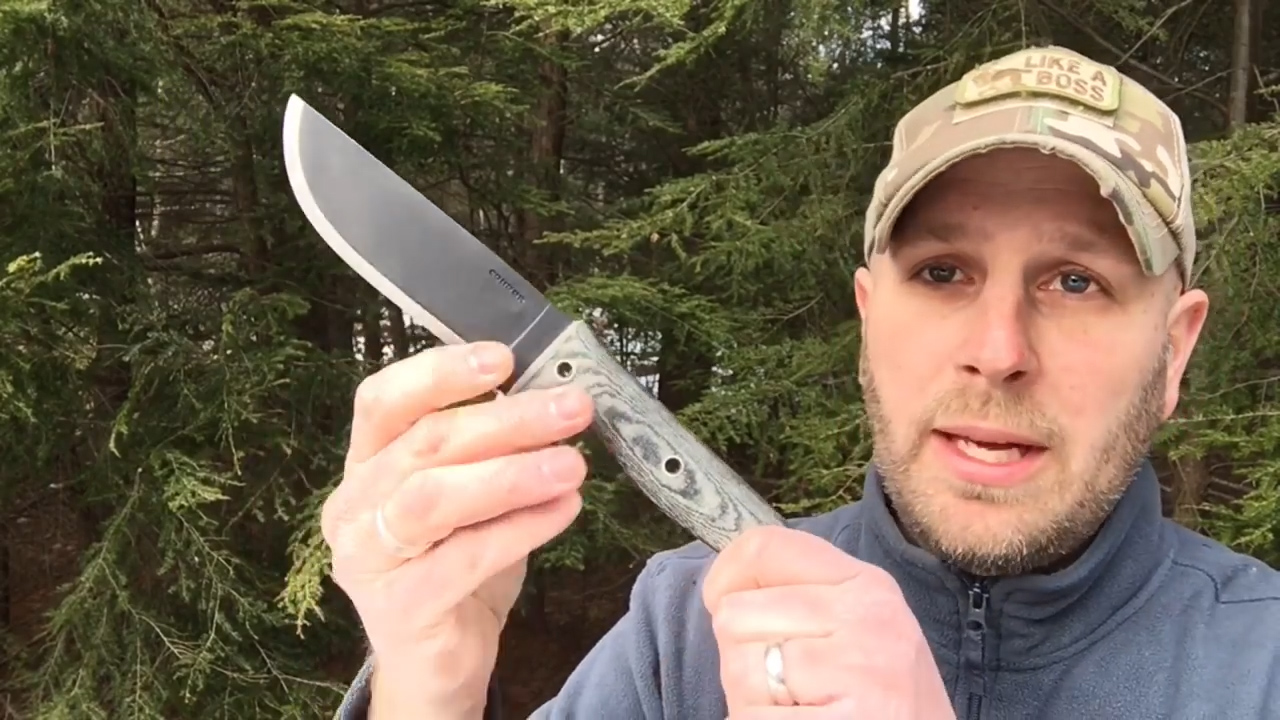knife: (267, 85, 634, 450)
